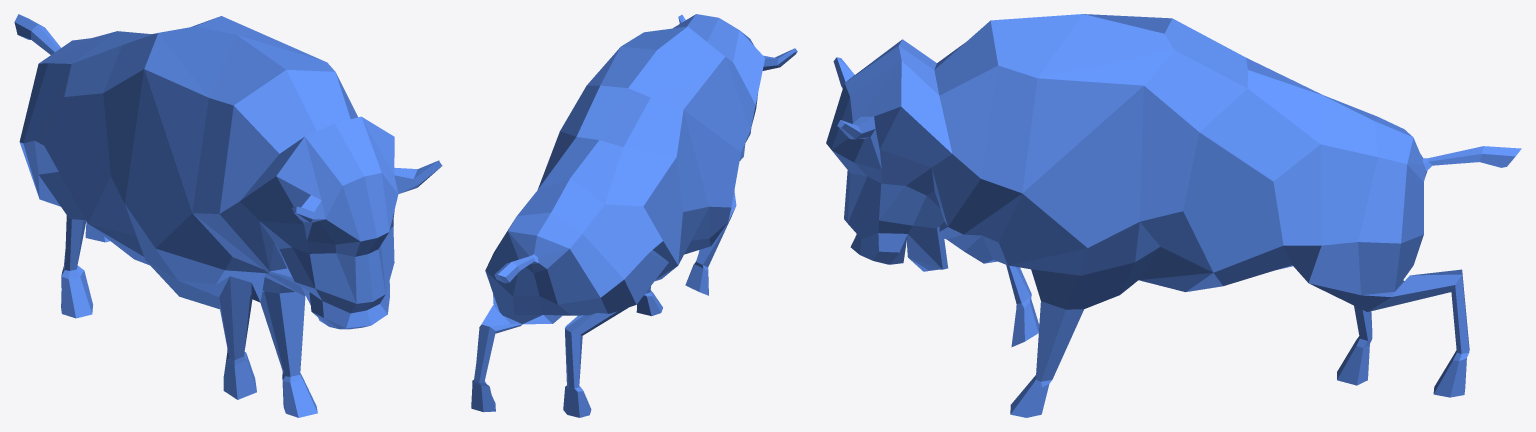
The model's file is bison_008.obj.
3 renders of one model, left to right at view 1: azimuth 30°, elevation 25°; view 2: azimuth 150°, elevation 25°; view 3: azimuth 270°, elevation 25°, orthographic. The views are drawn at different scales.
Parts seen in each view (by area): view 1: comp_bison_rig:bison_body comp_bison_rig:bison; view 2: comp_bison_rig:bison_body comp_bison_rig:bison; view 3: comp_bison_rig:bison_body comp_bison_rig:bison.
Part boxes in pixels (box(x1,y1,x2,y2)): comp_bison_rig:bison_body comp_bison_rig:bison: box(14, 14, 442, 417); comp_bison_rig:bison_body comp_bison_rig:bison: box(471, 14, 797, 417); comp_bison_rig:bison_body comp_bison_rig:bison: box(826, 14, 1521, 417).
Size of the model in its own units: 117 by 196 by 327.
